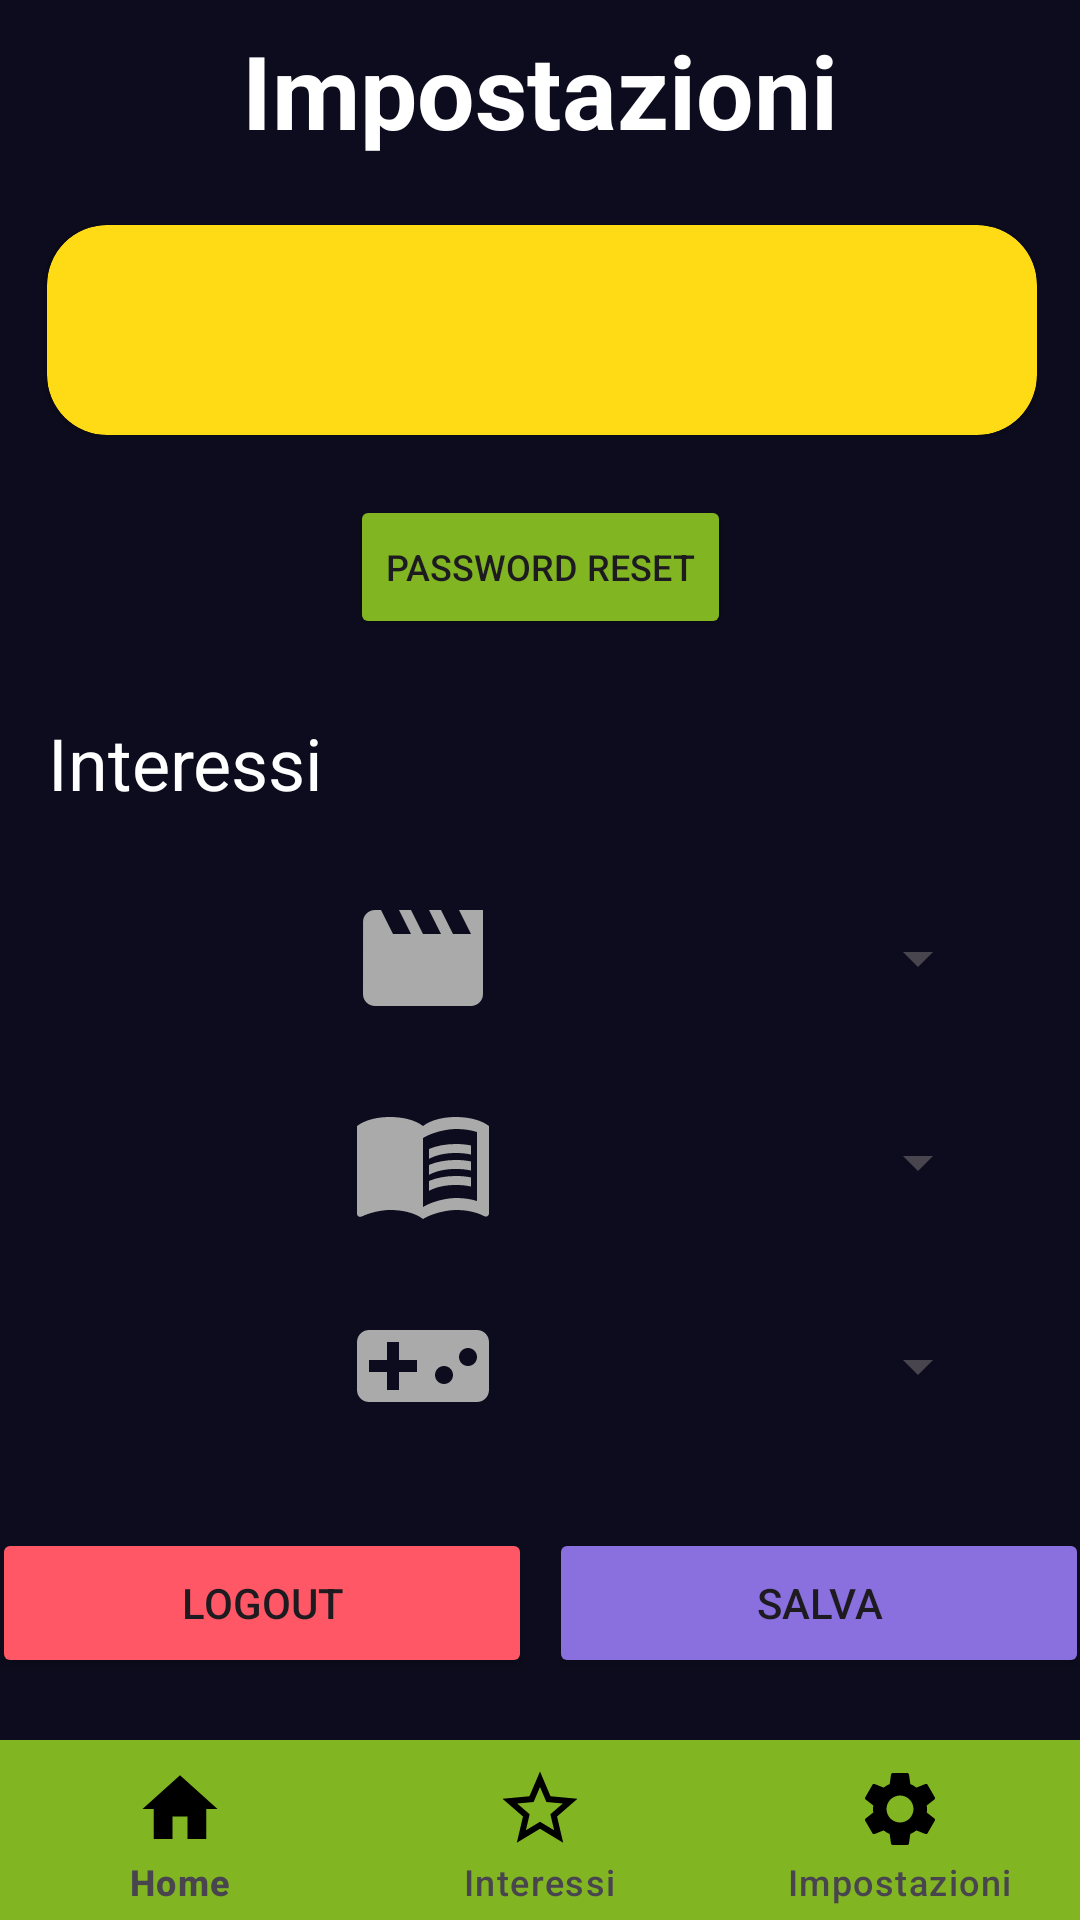

Where icons sit on this 1080px x 1920px app screen, as (x1, y1, x2, y2):
Film: (363, 910, 483, 1006)
Libri: (357, 1117, 489, 1219)
Videogiochi: (357, 1330, 489, 1402)
